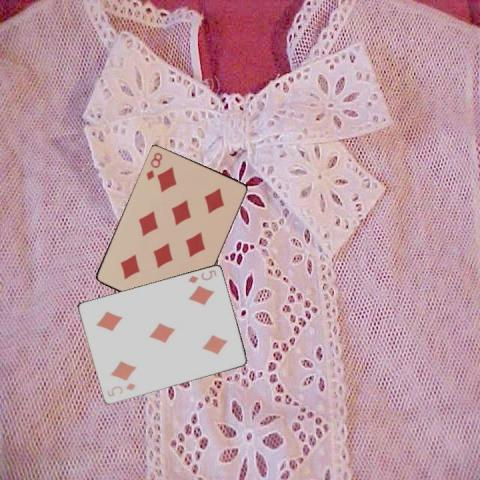5d: (104, 380, 137, 399), (185, 266, 218, 284)
8d: (143, 150, 164, 182)
